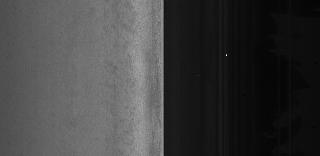silk spot: (108, 59, 140, 115)
